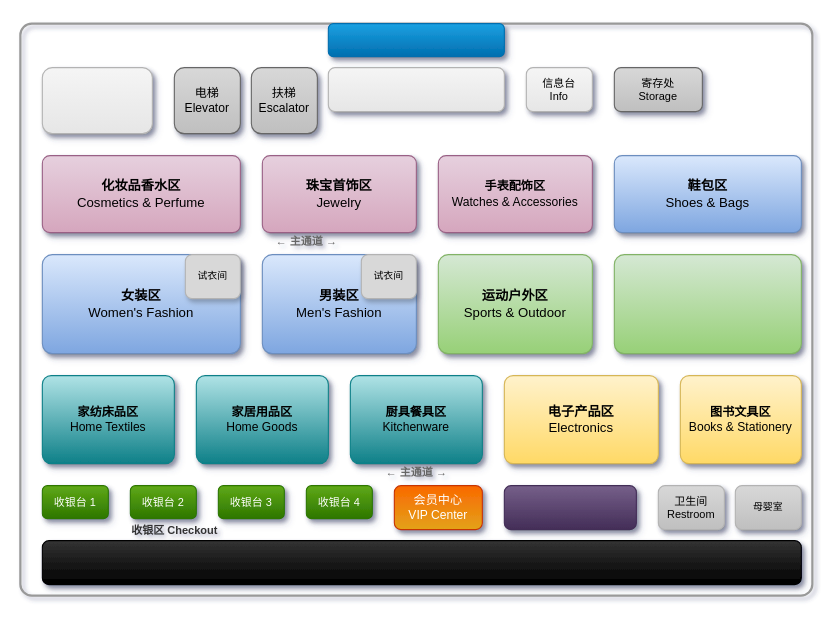
The diagram is 838 pixels wide and 623 high, and some of its shapes have lost their labels. Here are the shapes that lost their labels. From the top down, the centre of each, then its label:
pixel 417 41: 主入口 Main Entrance
pixel 98 101: 顾客服务中心 Service Center
pixel 417 90: 大堂 Lobby
pixel 708 305: 童装玩具区 Kids & Toys
pixel 571 508: 咖啡休息区 Cafe & Lounge
pixel 422 563: 仓库/员工区 Storage & Staff Area
